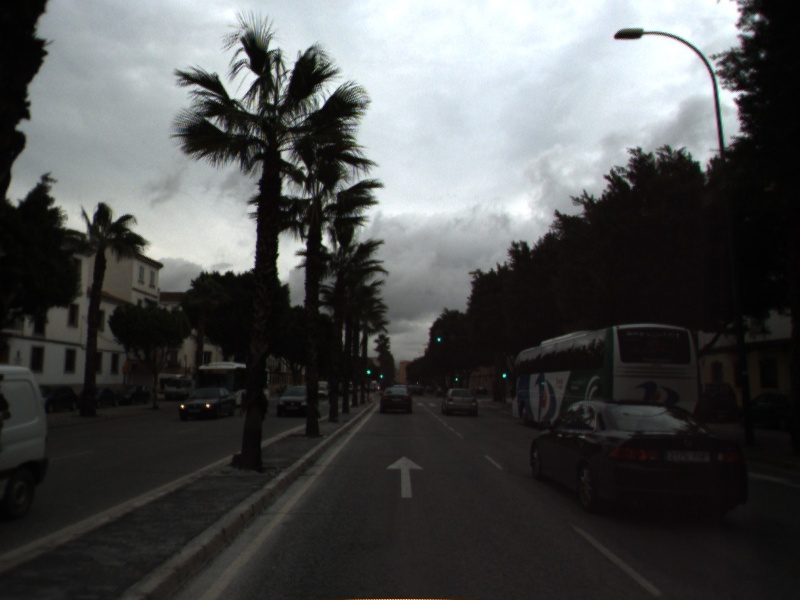STRAIGHT: (384, 453, 427, 500)
